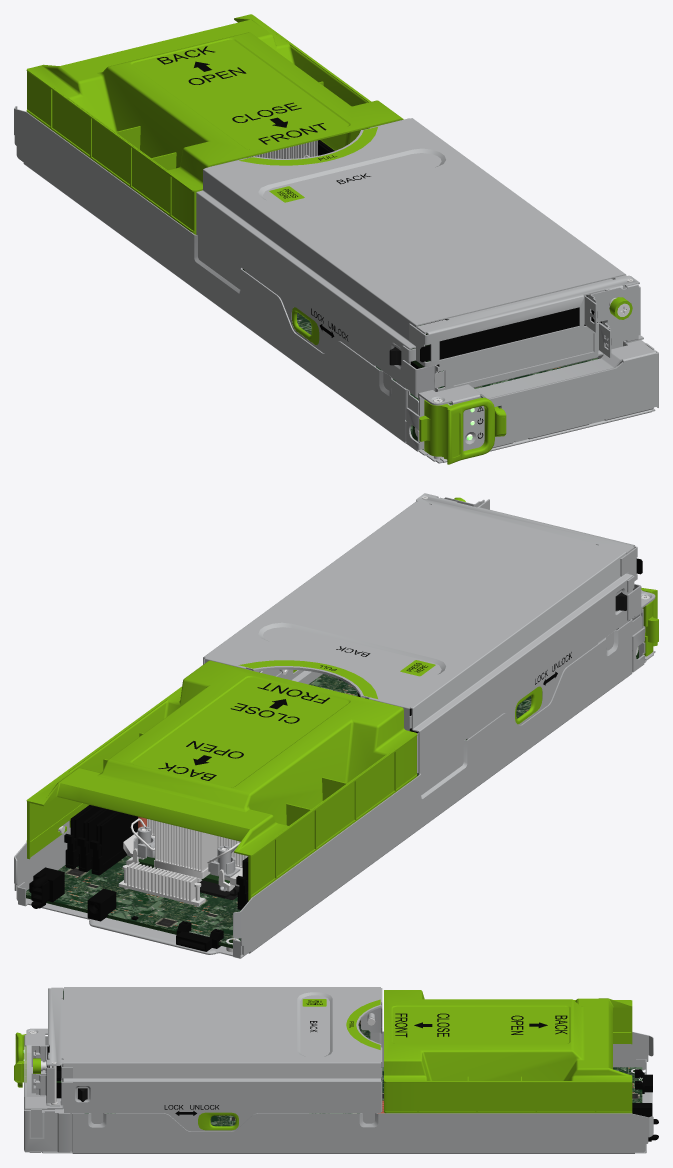
The model's file is discovery-point.glb.
The picture shows the model from 3 angles, top to bottom: view 1: azimuth 30°, elevation 25°; view 2: azimuth 150°, elevation 25°; view 3: azimuth 270°, elevation 25°; orthographic projection. The views are drawn at different scales.
Parts seen in each view (by area): view 1: DP_Riser Cage, DP_Green Cover, DP_Tray; view 2: DP_Riser Cage, DP_Green Cover, DP_Tray; view 3: DP_Riser Cage, DP_Tray, DP_Green Cover.
Part boxes in pixels (left/top/right/bottom): DP_Riser Cage: left=196, top=118, right=643, bottom=397; DP_Green Cover: left=26, top=14, right=403, bottom=234; DP_Tray: left=14, top=106, right=658, bottom=464; DP_Riser Cage: left=203, top=493, right=642, bottom=775; DP_Green Cover: left=26, top=660, right=417, bottom=901; DP_Tray: left=14, top=587, right=658, bottom=958; DP_Riser Cage: left=31, top=987, right=382, bottom=1131; DP_Tray: left=14, top=1028, right=658, bottom=1153; DP_Green Cover: left=384, top=990, right=632, bottom=1113.
Bounding box in the file's own units: 0.1721 × 0.0822 × 0.5439.
11 materials, 3 textured.
